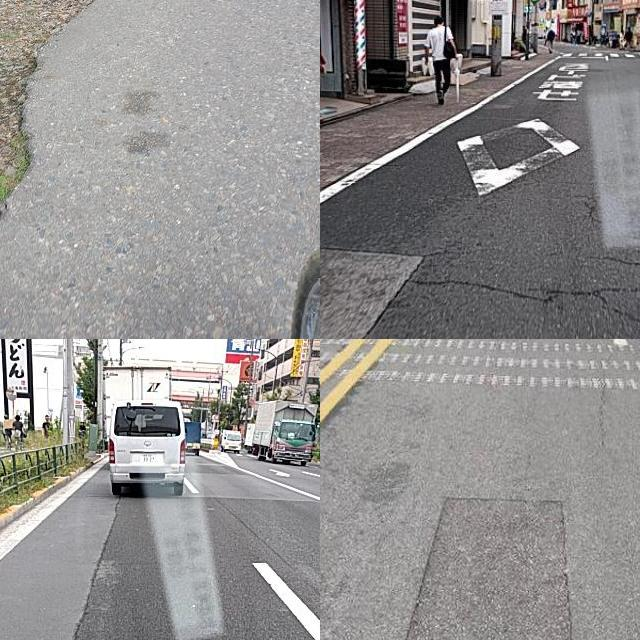Pinggir: (0, 0, 135, 248)
Sambungan: (406, 499, 573, 640), (320, 250, 423, 339)
